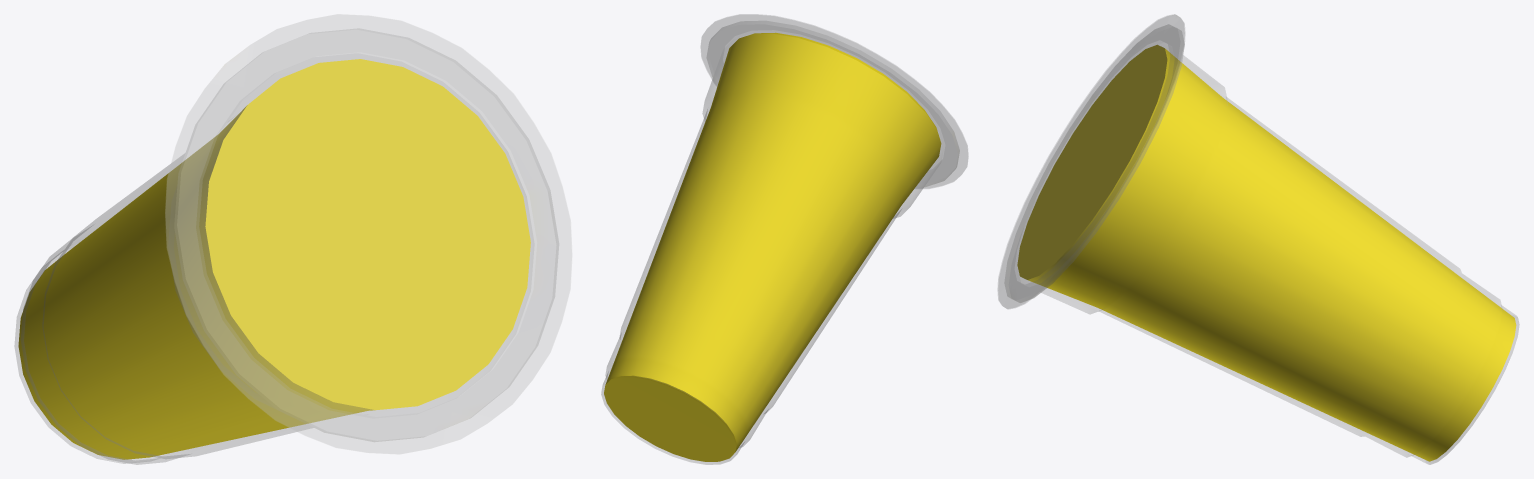
The model's file is ref_bfcornjuice.glb.
3 renders of one model, left to right at view 1: azimuth 30°, elevation 25°; view 2: azimuth 150°, elevation 25°; view 3: azimuth 270°, elevation 25°, orthographic. The views are drawn at different scales.
Visible parts, largest first — view 1: ref_bfcornjuice_part0, ref_bfcornjuice_part1; view 2: ref_bfcornjuice_part0, ref_bfcornjuice_part1; view 3: ref_bfcornjuice_part0, ref_bfcornjuice_part1.
Part boxes in pixels (x1,y1,x2,y2): ref_bfcornjuice_part0: (14,14,571,464); ref_bfcornjuice_part1: (18,59,530,459); ref_bfcornjuice_part0: (601,14,968,464); ref_bfcornjuice_part1: (604,32,941,461); ref_bfcornjuice_part0: (998,14,1519,464); ref_bfcornjuice_part1: (1017,45,1516,461).
Bounding box in the file's own units: 0.6506 × 0.892 × 1.
2 materials, 1 textured.
